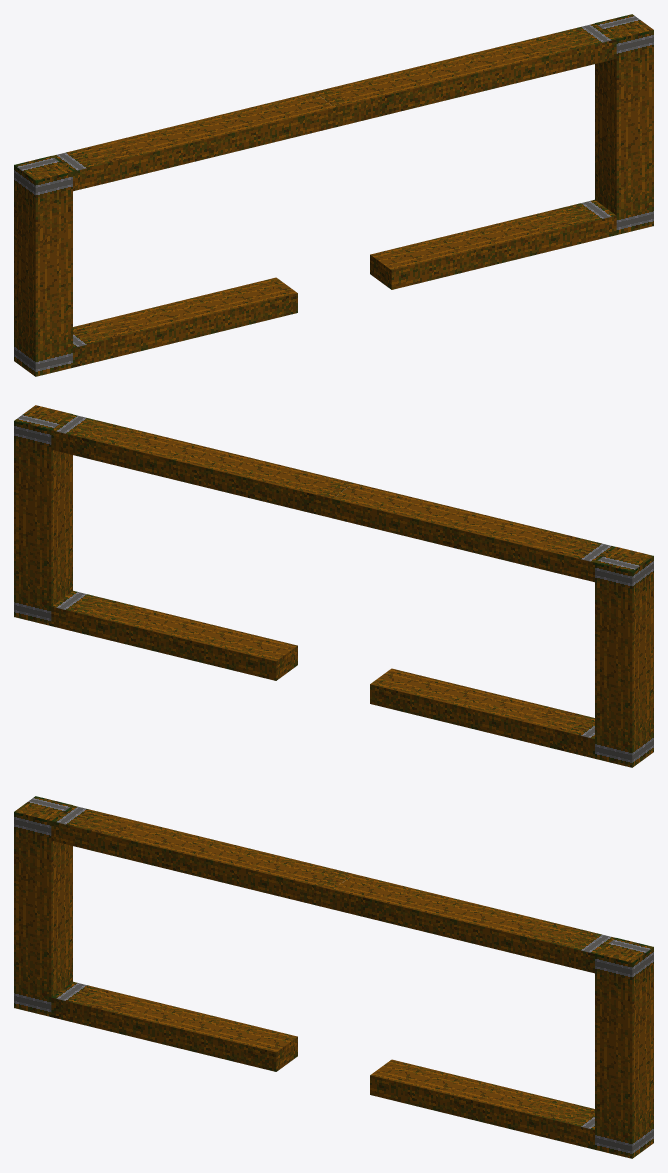
File: NewWallRimHole.gltf
3 views of the same model, one above another, from view 1: azimuth 30°, elevation 25°; view 2: azimuth 150°, elevation 25°; view 3: azimuth 330°, elevation 25° (orthographic).
Visible parts, largest first — view 1: default; view 2: default; view 3: default.
Boxes of the visible parts, x1,y1,x2,y2 form: default: (14,14,653,376); default: (14,405,653,767); default: (14,796,653,1158).
Size of the model in its own units: 16.5 by 5 by 1.
Materials: 1 (1 with a texture image).
